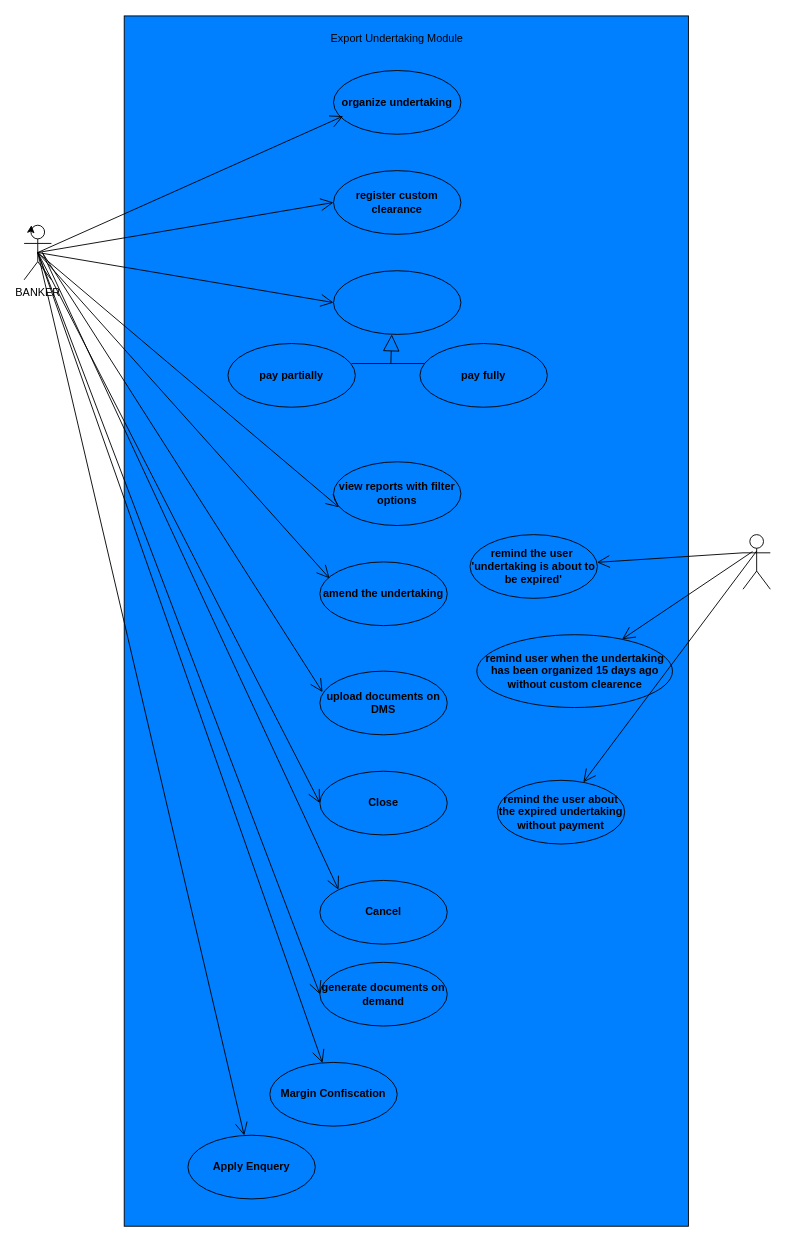
Some shapes in this 812 by 1242 pixel diagram are drawn without their labels. The centre of each missing label's shape, as x and y in pixels:
Allerting System: point (756, 561)
pay the undertaking: point (397, 302)
